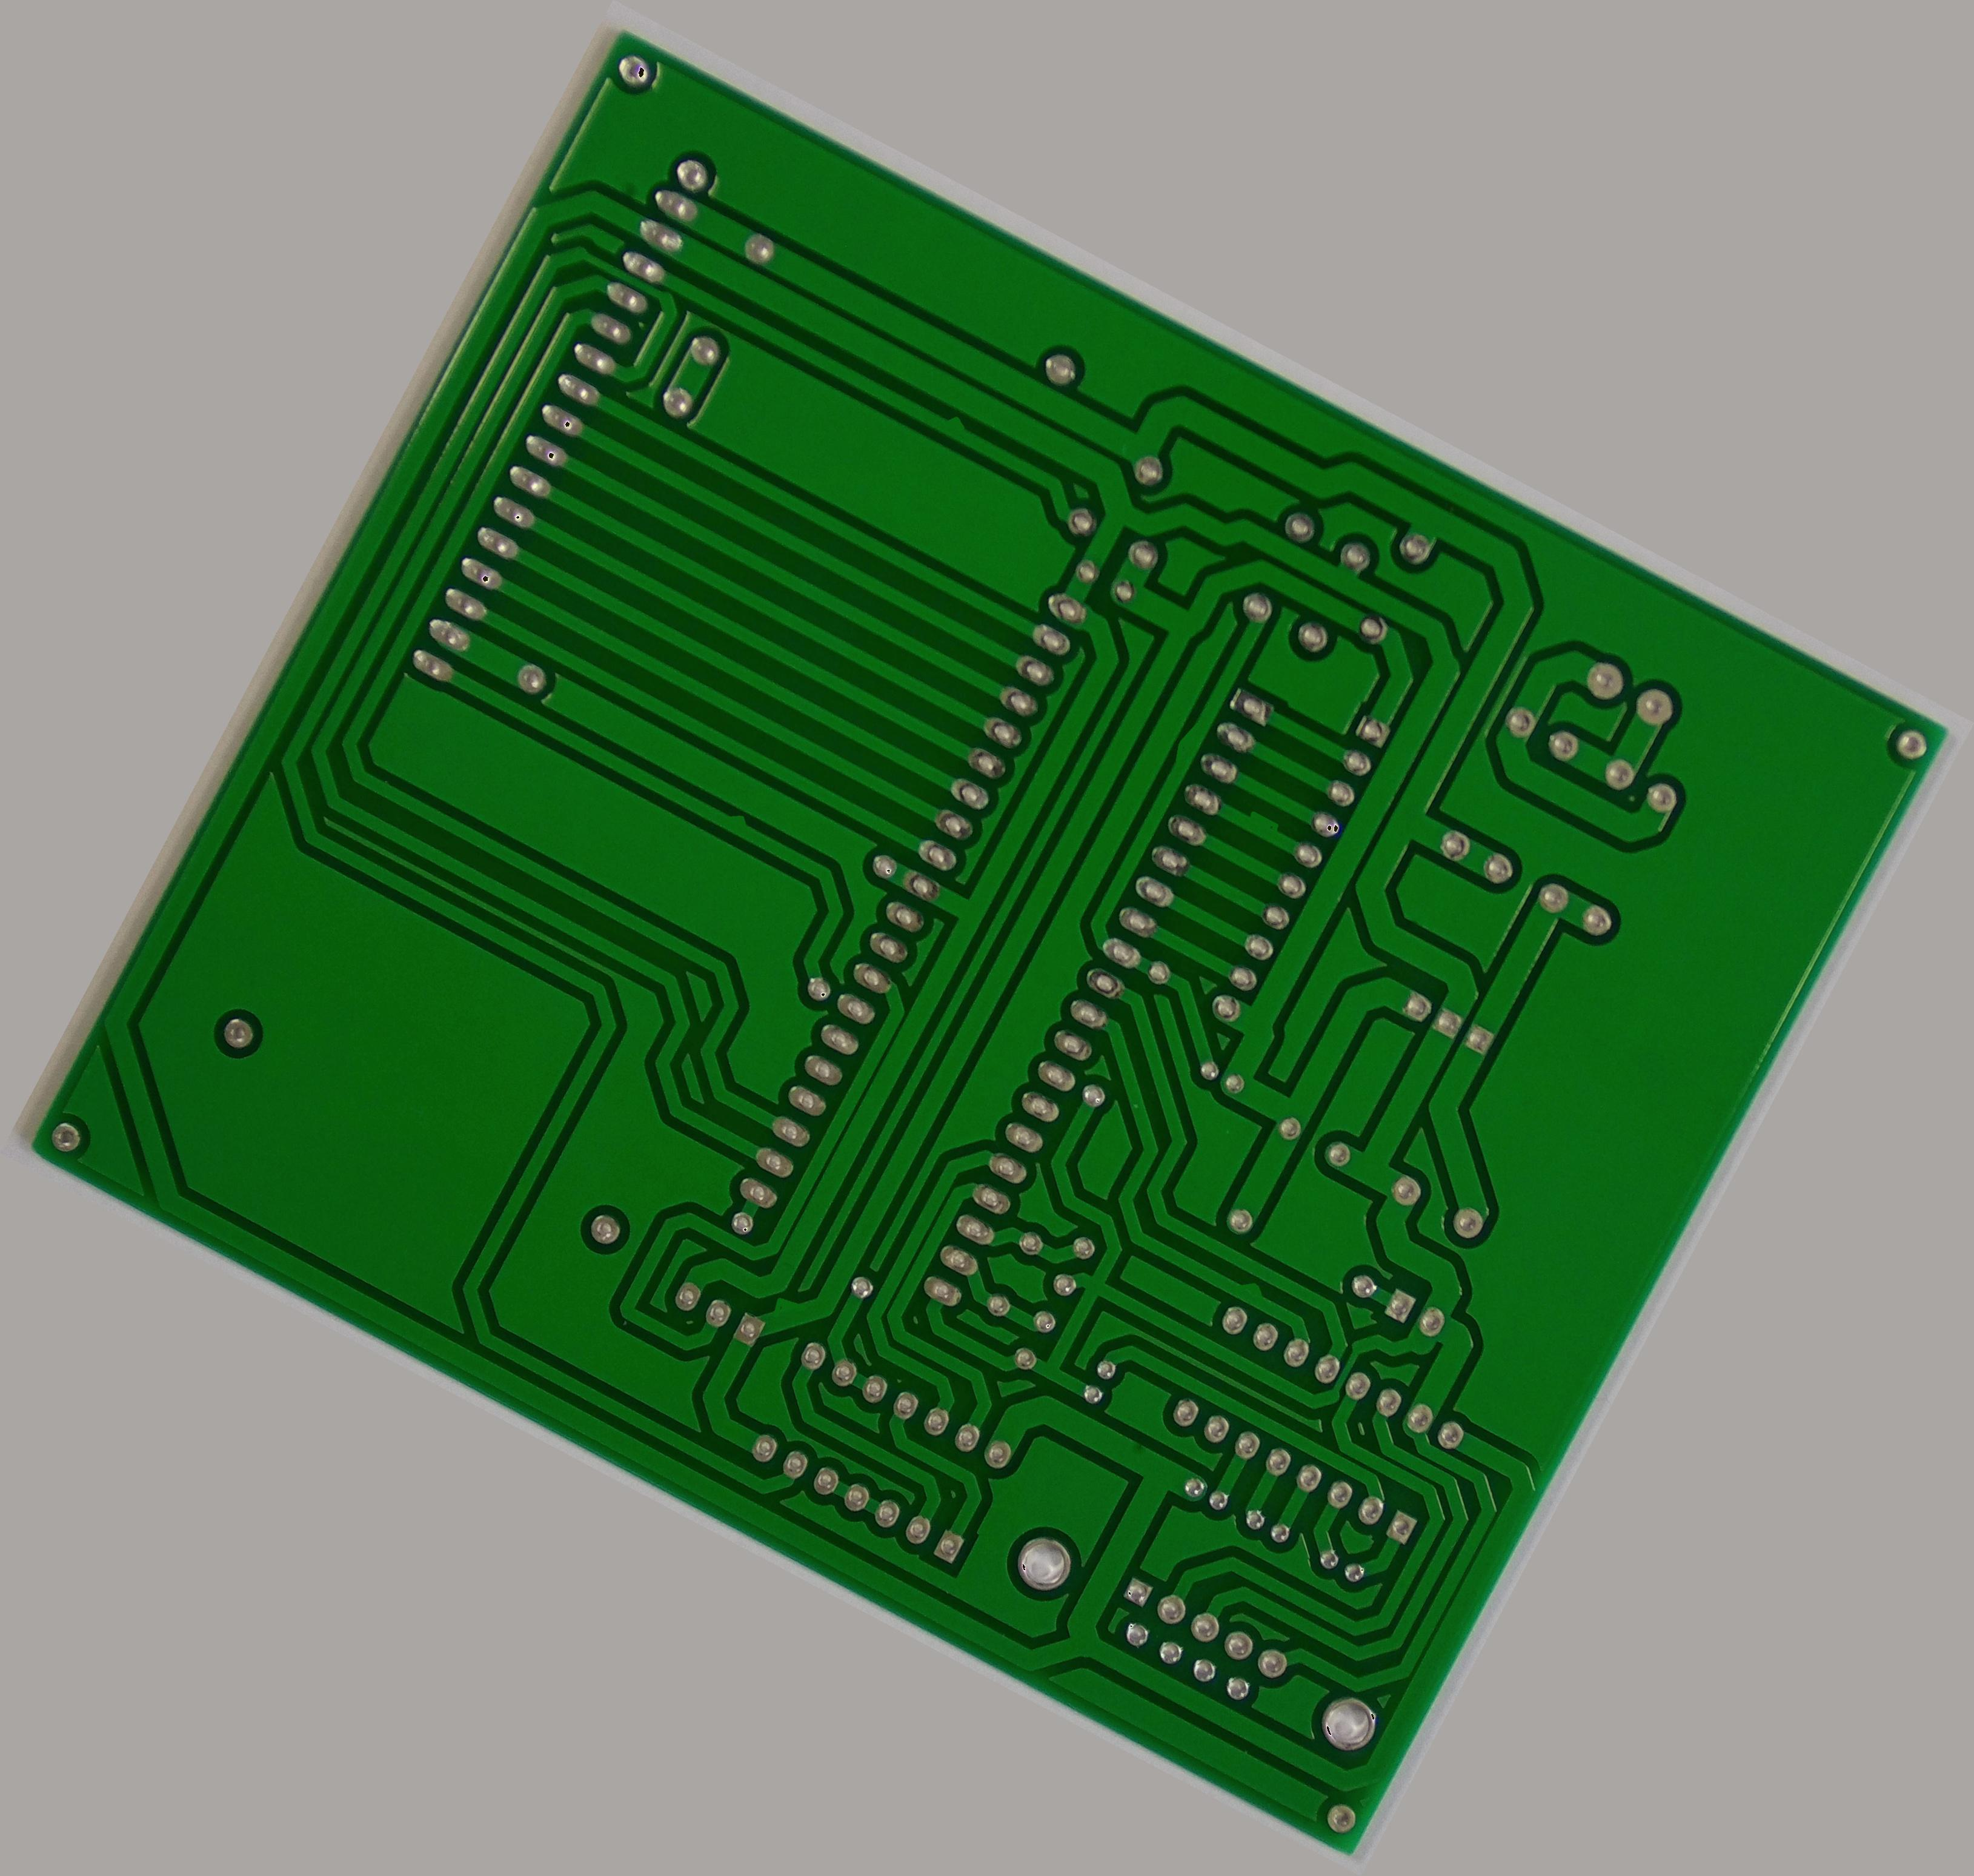spur: (1161, 713, 1211, 777), (1234, 796, 1294, 844), (712, 796, 760, 842), (931, 400, 976, 440), (1232, 1268, 1276, 1307)
